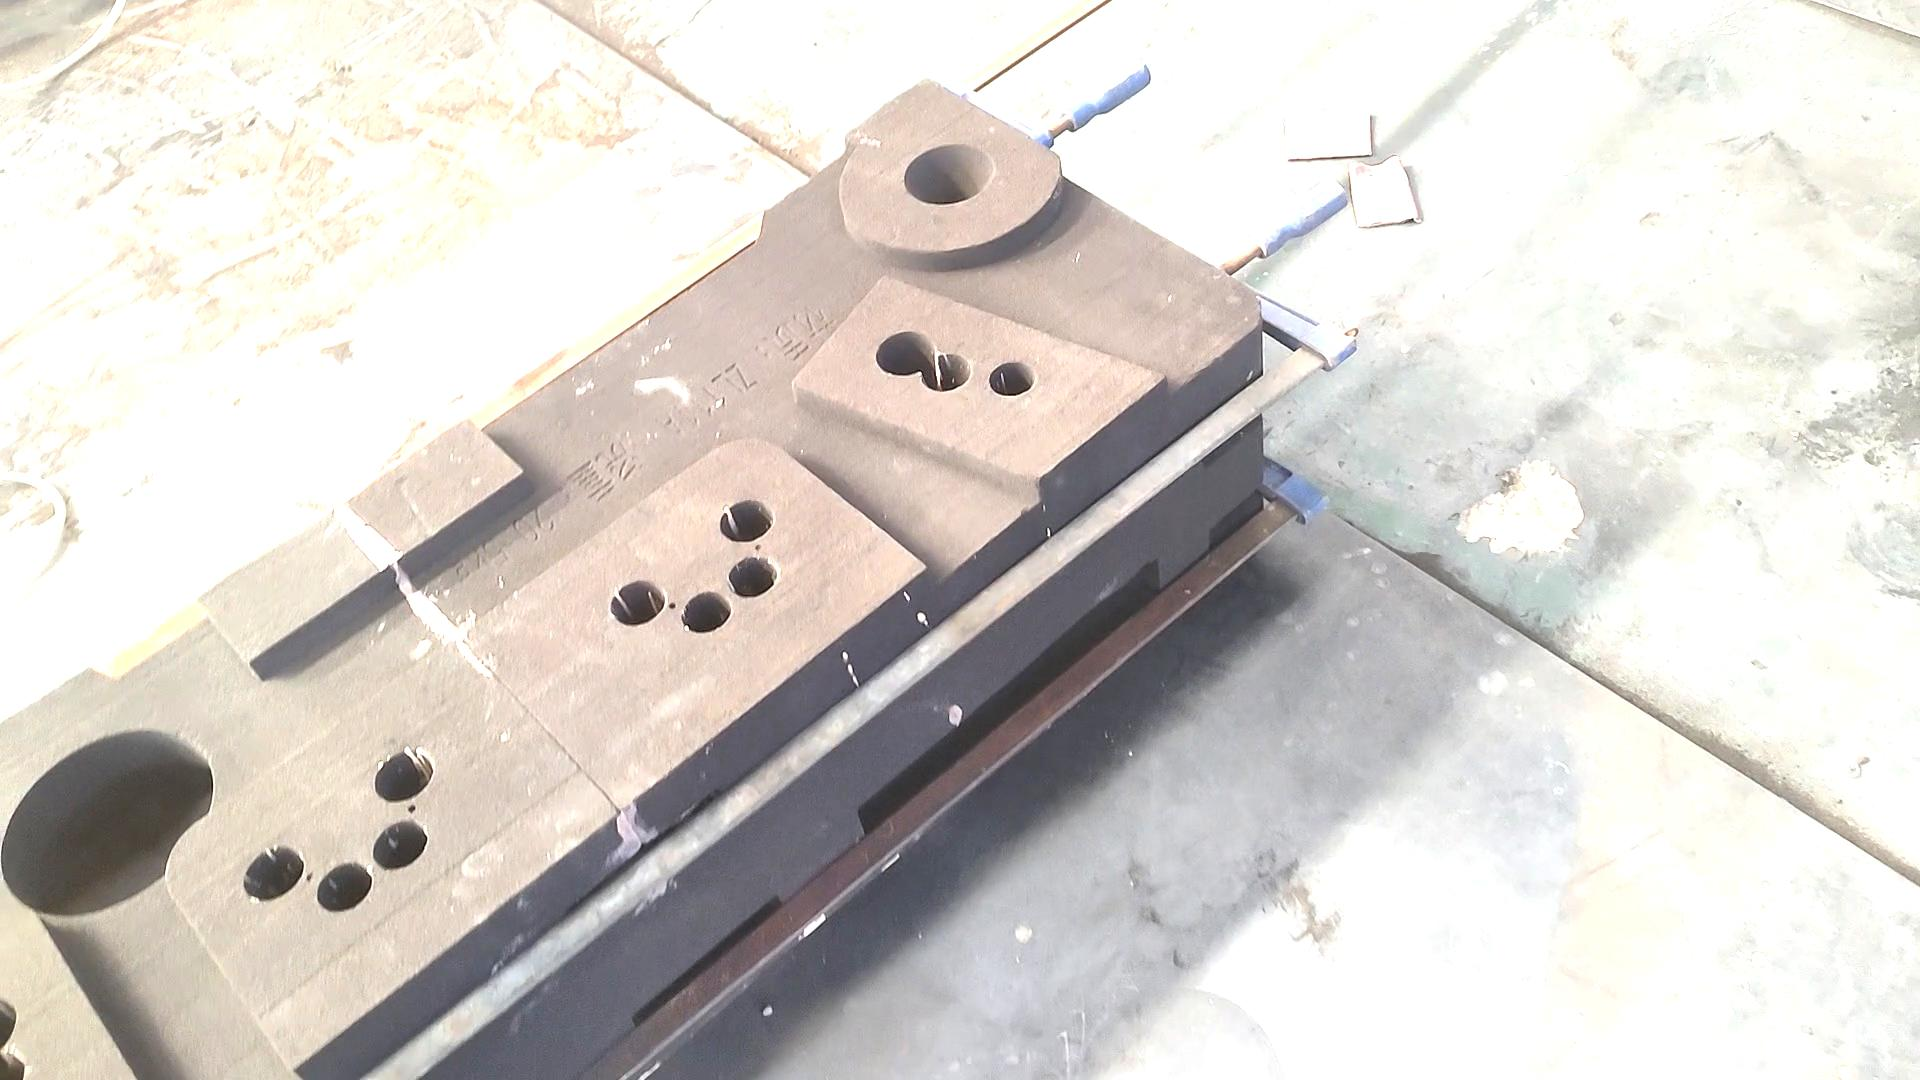pouring hole: (905, 142, 996, 204)
